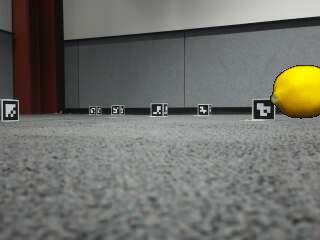lemon: (273, 65, 320, 118)
